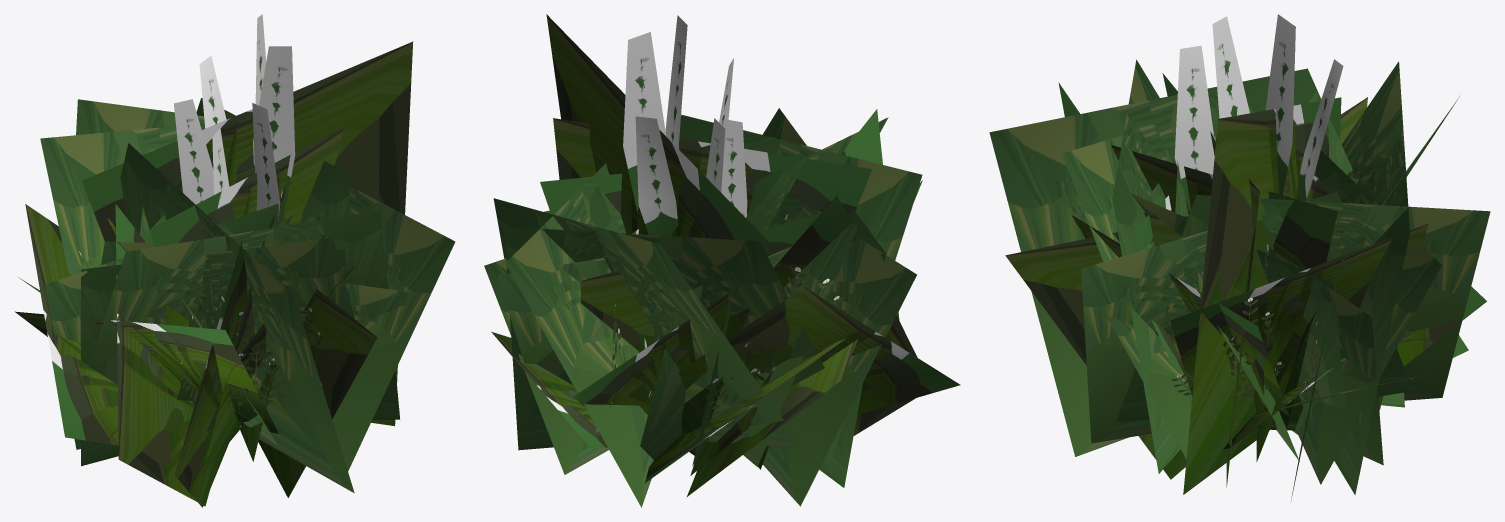
File: foliage.glb
The picture shows the model from 3 angles, left to right: view 1: azimuth 30°, elevation 25°; view 2: azimuth 150°, elevation 25°; view 3: azimuth 270°, elevation 25°; orthographic projection. The views are drawn at different scales.
Visible parts, largest first — view 1: Object_4, Object_6, Object_18; view 2: Object_6, Object_4, Object_18; view 3: Object_6, Object_4, Object_18.
Boxes of the visible parts, x1,y1,x2,y2 form: Object_4: (15, 14, 413, 507); Object_6: (40, 98, 455, 493); Object_18: (79, 250, 323, 411); Object_6: (484, 108, 922, 507); Object_4: (491, 14, 960, 497); Object_18: (610, 211, 843, 417); Object_6: (989, 59, 1490, 502); Object_4: (1005, 14, 1486, 494); Object_18: (1171, 244, 1418, 403).
Size of the model in its own units: 1.12 by 1.22 by 1.16.
3 materials, 3 textured.
